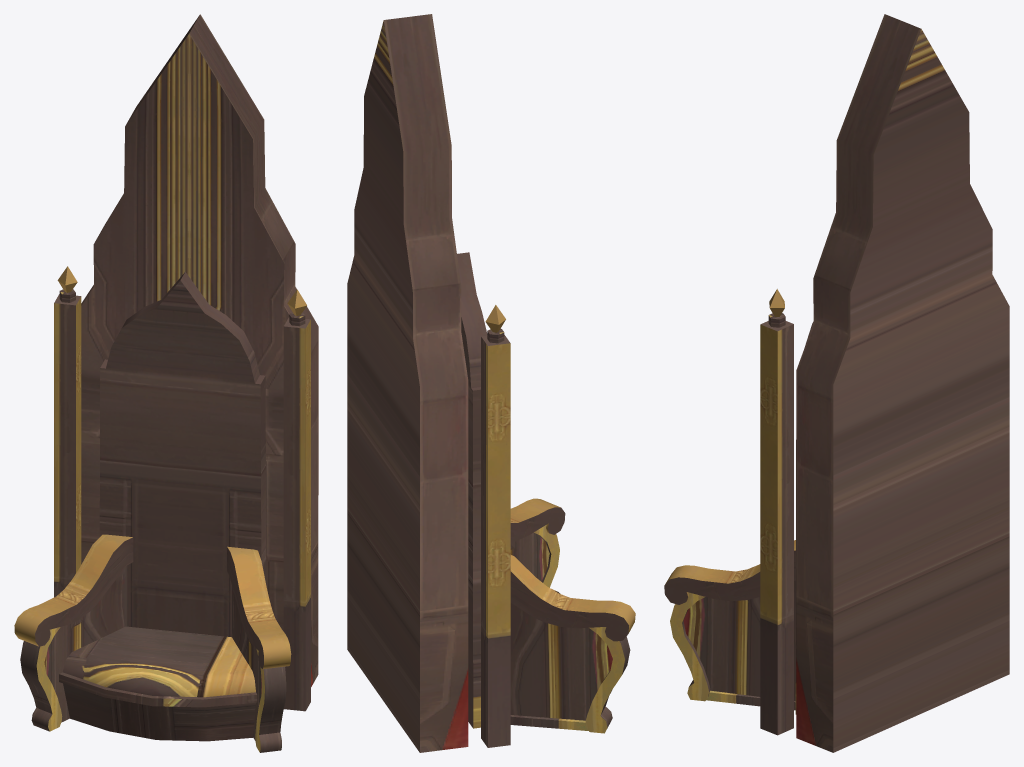
The model's file is Indoor_Fd_Prop_Gjy_Chair_A_02_Vo.obj.
The picture shows the model from 3 angles, left to right: view 1: azimuth 30°, elevation 25°; view 2: azimuth 150°, elevation 25°; view 3: azimuth 270°, elevation 25°; orthographic projection. The views are drawn at different scales.
Visible parts, largest first — view 1: Indoor_Fd_Prop_Gjy_Chair_A_02_Vo; view 2: Indoor_Fd_Prop_Gjy_Chair_A_02_Vo; view 3: Indoor_Fd_Prop_Gjy_Chair_A_02_Vo.
Part boxes in pixels (bbox=[...]): Indoor_Fd_Prop_Gjy_Chair_A_02_Vo: bbox=[14, 14, 318, 752]; Indoor_Fd_Prop_Gjy_Chair_A_02_Vo: bbox=[347, 14, 635, 752]; Indoor_Fd_Prop_Gjy_Chair_A_02_Vo: bbox=[664, 14, 1009, 752].
Bounding box in the file's own units: 3.33 × 7.22 × 3.3.
